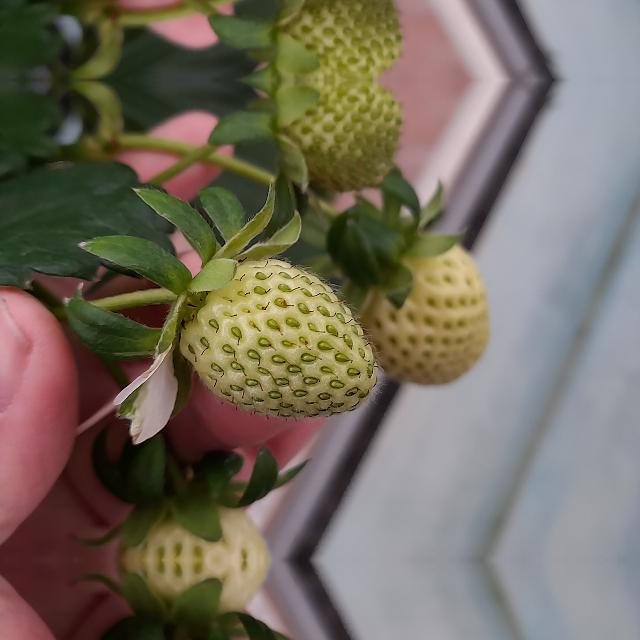Health_25: (178, 258, 378, 418), (350, 228, 492, 390), (270, 80, 400, 192), (269, 0, 400, 80)
